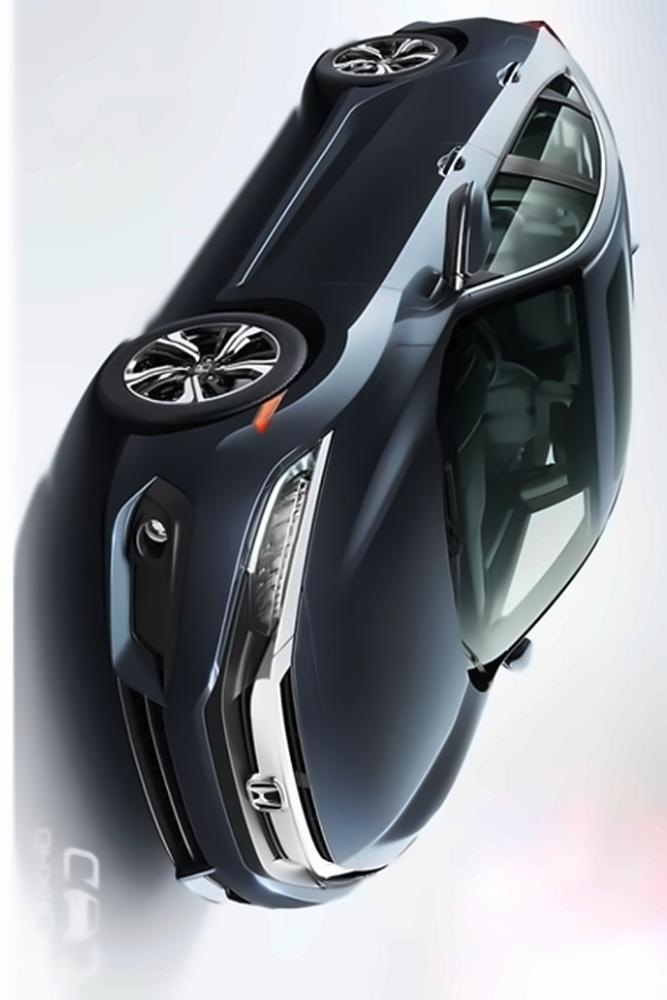Car hood: (287, 337, 493, 876)
Driver-s door - -F-R-: (255, 139, 608, 279)
Fender - -F-R-: (209, 275, 475, 450)
Fender - -R-R-: (340, 31, 564, 98)
Front bumper: (90, 422, 264, 912)
Headlight - -R-: (237, 425, 337, 643)
Passenger-s door - -R-R-: (332, 52, 614, 135)
Rear bumper: (389, 2, 460, 44)
Rear light - -R-: (512, 7, 578, 43)
Side bumper - -R-: (205, 75, 366, 309)
Side mirror - -L-: (495, 630, 546, 680)
Side mirror - -R-: (434, 167, 502, 317)
